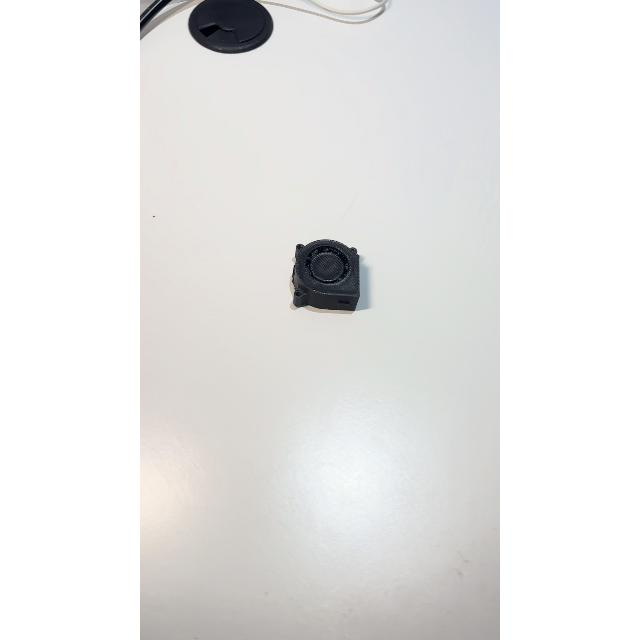Pieza_3: (285, 230, 375, 322)
